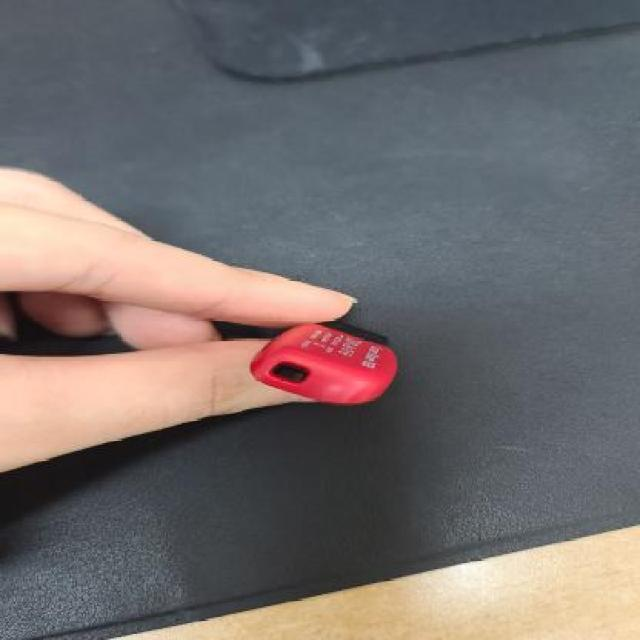Flashdisk: (245, 319, 401, 406)
